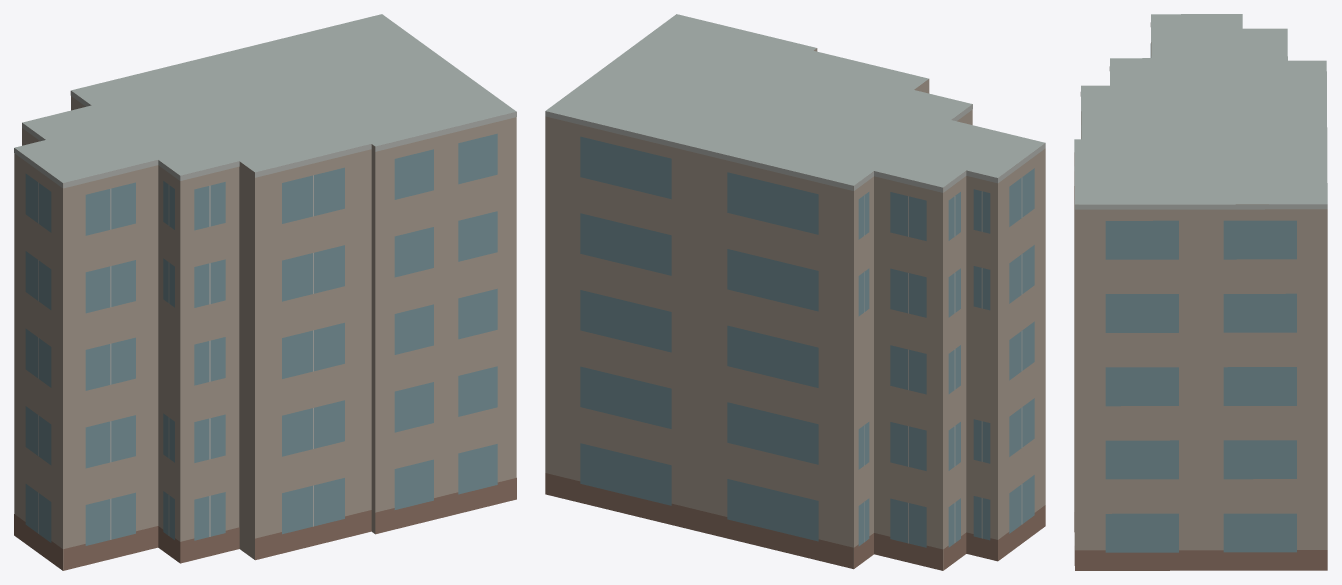
The model's file is survey-upis-32622162.glb.
The picture shows the model from 3 angles, left to right: view 1: azimuth 30°, elevation 25°; view 2: azimuth 150°, elevation 25°; view 3: azimuth 270°, elevation 25°; orthographic projection. The views are drawn at different scales.
Parts seen in each view (by area): view 1: survey-upis-32622162.tmp; view 2: survey-upis-32622162.tmp; view 3: survey-upis-32622162.tmp.
Part boxes in pixels (x1,y1,x2,y2): survey-upis-32622162.tmp: [14, 14, 516, 570]; survey-upis-32622162.tmp: [545, 14, 1045, 570]; survey-upis-32622162.tmp: [1074, 14, 1327, 570].
Bounding box in the file's own units: 19.67 × 17.6 × 11.04.
